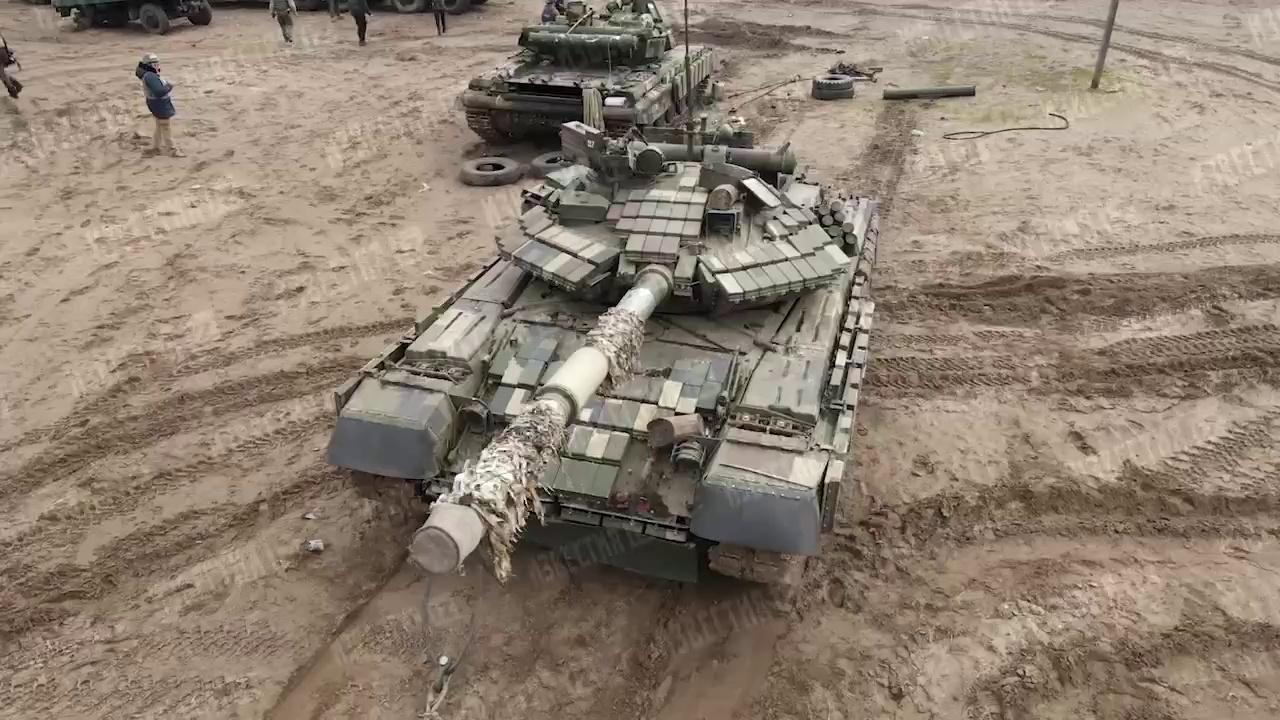person: (135, 53, 182, 155), (262, 0, 300, 43), (349, 0, 375, 45), (428, 0, 448, 41)
tank: (326, 120, 884, 601), (460, 0, 728, 143)
